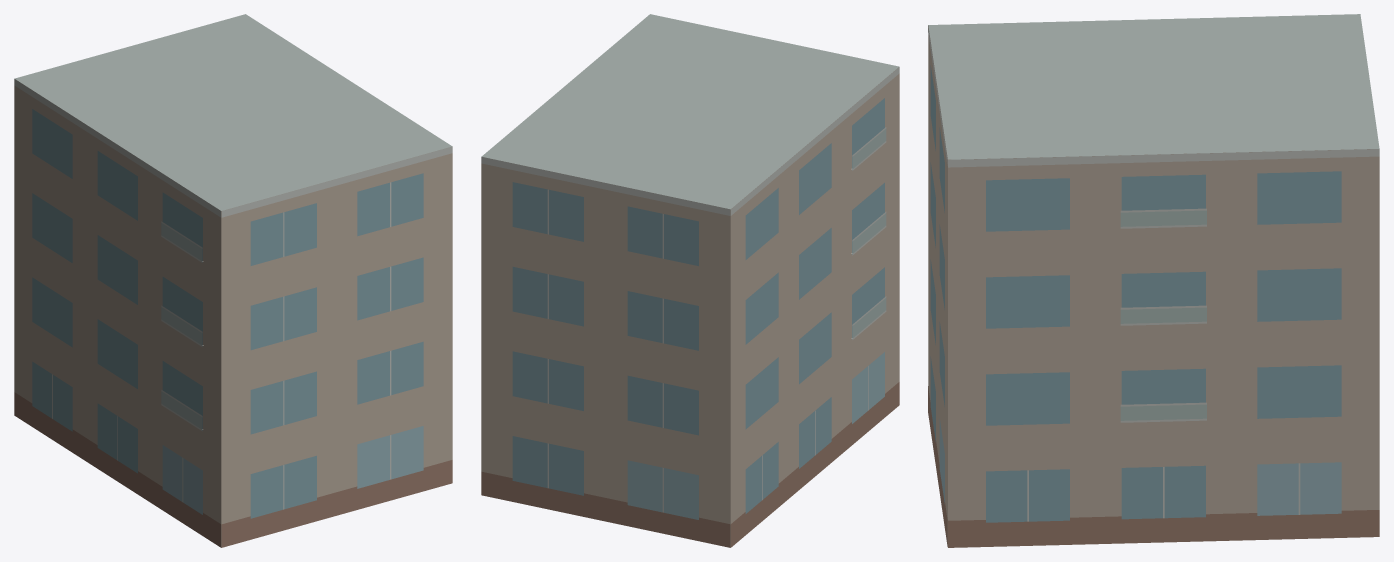
Rendered from residential-03bfe060-e4f3-4b21-b7ff-5fc81d79c202.glb.
3 renders of one model, left to right at view 1: azimuth 30°, elevation 25°; view 2: azimuth 150°, elevation 25°; view 3: azimuth 270°, elevation 25°, orthographic. The views are drawn at different scales.
Parts seen in each view (by area): view 1: residential-03bfe060-e4f3-4b21-b7ff-5fc81d79c202.tmp; view 2: residential-03bfe060-e4f3-4b21-b7ff-5fc81d79c202.tmp; view 3: residential-03bfe060-e4f3-4b21-b7ff-5fc81d79c202.tmp.
Boxes of the visible parts, x1=… form: residential-03bfe060-e4f3-4b21-b7ff-5fc81d79c202.tmp: x1=14, y1=14, x2=452, y2=547; residential-03bfe060-e4f3-4b21-b7ff-5fc81d79c202.tmp: x1=481, y1=14, x2=899, y2=547; residential-03bfe060-e4f3-4b21-b7ff-5fc81d79c202.tmp: x1=928, y1=14, x2=1379, y2=547.
Bounding box in the file's own units: 9.84 × 12.2 × 12.87.
